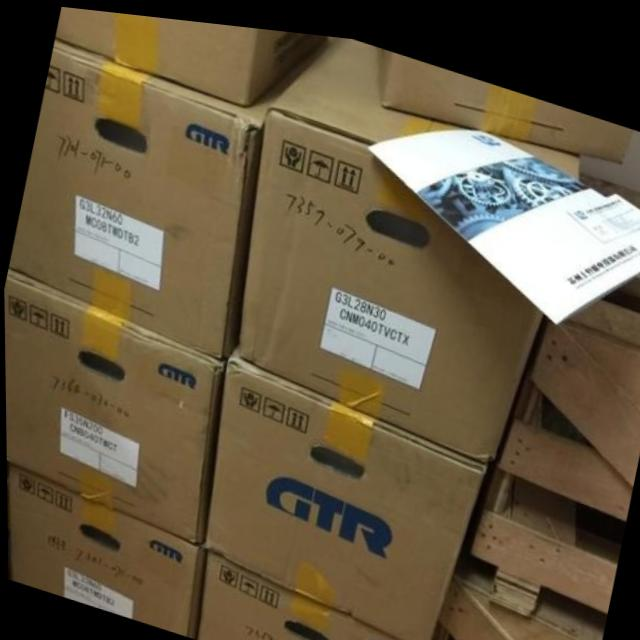box: (236, 30, 544, 453), (7, 37, 323, 355), (203, 340, 484, 640), (3, 266, 225, 539), (5, 463, 204, 633), (377, 39, 633, 149), (54, 5, 334, 100), (197, 548, 417, 640), (497, 124, 578, 168)
